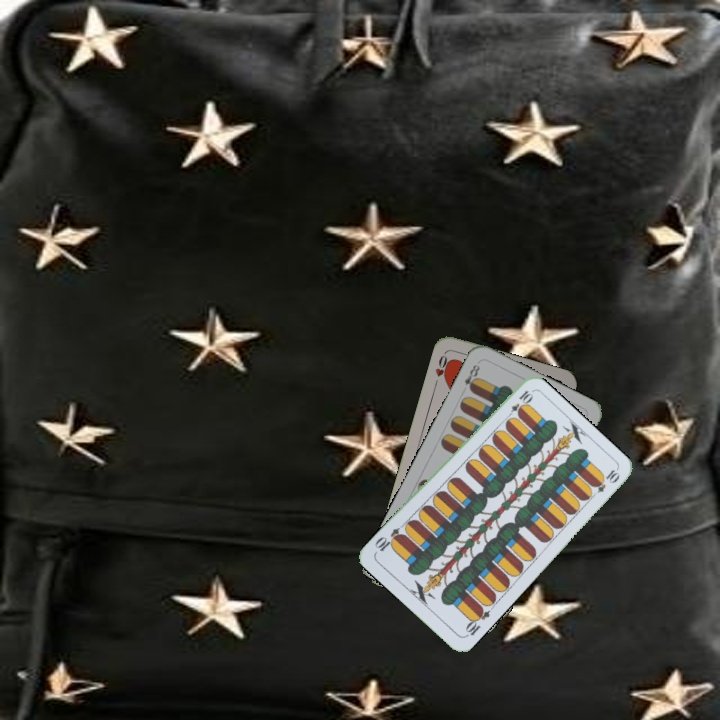E10: (502, 386, 535, 422), (461, 603, 493, 640)
E8: (460, 360, 482, 394)
HO: (430, 349, 454, 389)
